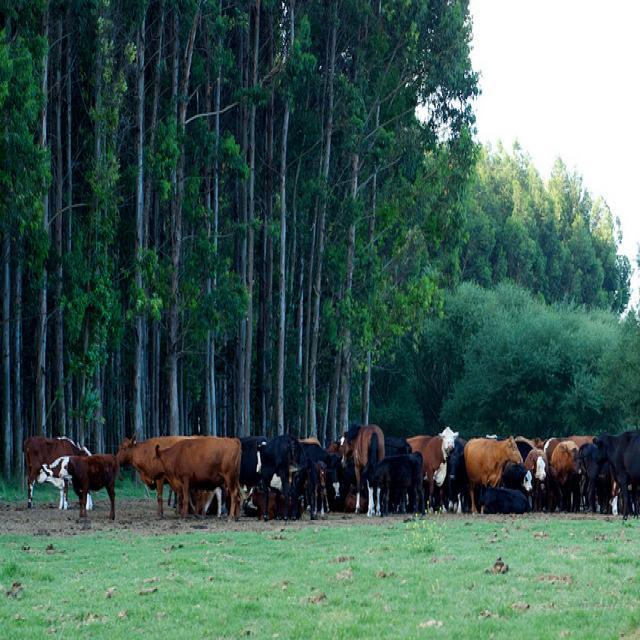cow: (34, 412, 638, 529), (115, 430, 206, 517), (144, 444, 240, 517), (255, 432, 306, 523), (462, 433, 522, 510), (359, 450, 424, 517), (58, 451, 120, 519), (23, 435, 80, 507), (407, 427, 457, 502), (523, 445, 548, 511), (301, 441, 338, 483), (549, 438, 585, 481), (500, 457, 532, 492)
